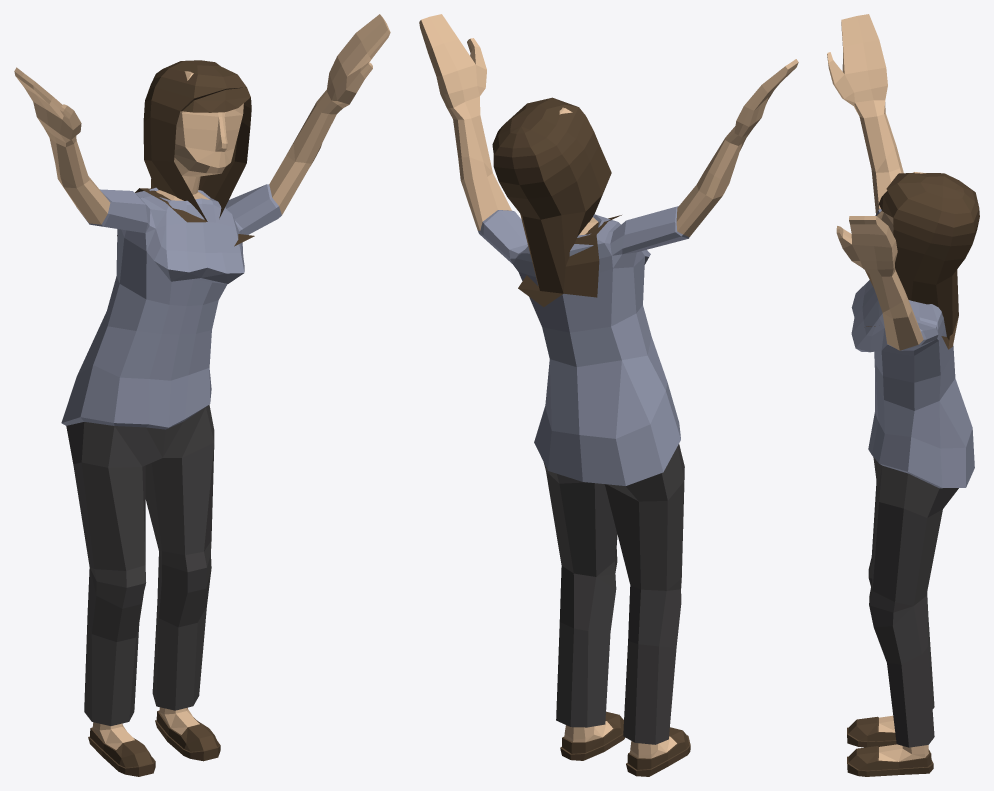
File: Female_Crowd_Swaying.glb
3 renders of one model, left to right at view 1: azimuth 30°, elevation 25°; view 2: azimuth 150°, elevation 25°; view 3: azimuth 270°, elevation 25°, orthographic. The views are drawn at different scales.
Visible parts, largest first — view 1: Female_Crowd_Swaying; view 2: Female_Crowd_Swaying; view 3: Female_Crowd_Swaying.
Part boxes in pixels (box(x1,y1,x2,y2)): Female_Crowd_Swaying: box(14, 14, 390, 776); Female_Crowd_Swaying: box(419, 14, 798, 776); Female_Crowd_Swaying: box(827, 14, 979, 776).
Size of the model in its own units: 0.9733 by 1.82 by 0.3748.
